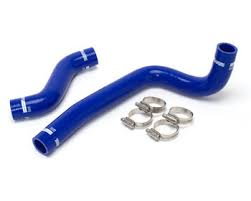radiator_hose: (31, 43, 251, 156), (12, 48, 99, 115)
